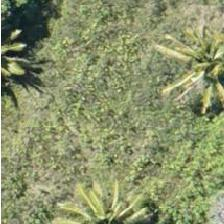coconut_tree: (173, 36, 223, 126)
